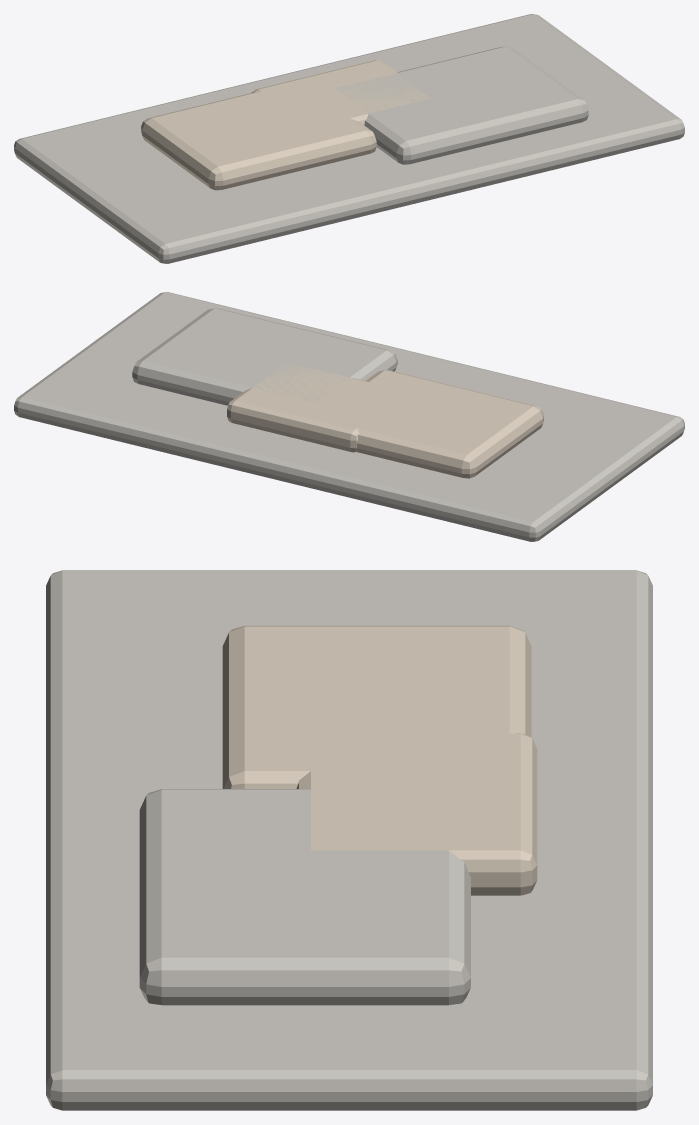
File: path_02.glb
The picture shows the model from 3 angles, top to bottom: view 1: azimuth 30°, elevation 25°; view 2: azimuth 150°, elevation 25°; view 3: azimuth 270°, elevation 25°; orthographic projection. The views are drawn at different scales.
Parts seen in each view (by area): view 1: ENV_path_02, ENV_path_02_B, ENV_path_02_A, ENV_path_02_C; view 2: ENV_path_02, ENV_path_02_B, ENV_path_02_A, ENV_path_02_C; view 3: ENV_path_02, ENV_path_02_B, ENV_path_02_A, ENV_path_02_C.
Part boxes in pixels (x1,y1,x2,y2): ENV_path_02: (14,14,684,263); ENV_path_02_B: (334,46,588,164); ENV_path_02_A: (141,91,376,190); ENV_path_02_C: (252,60,430,126); ENV_path_02: (14,292,684,541); ENV_path_02_B: (132,308,397,405); ENV_path_02_A: (320,370,543,478); ENV_path_02_C: (227,362,406,452); ENV_path_02: (46,570,652,1110); ENV_path_02_B: (139,789,470,1005); ENV_path_02_A: (222,625,531,788); ENV_path_02_C: (296,733,537,895).
Bounding box in the file's own units: 2.2 × 0.16 × 1.1.
